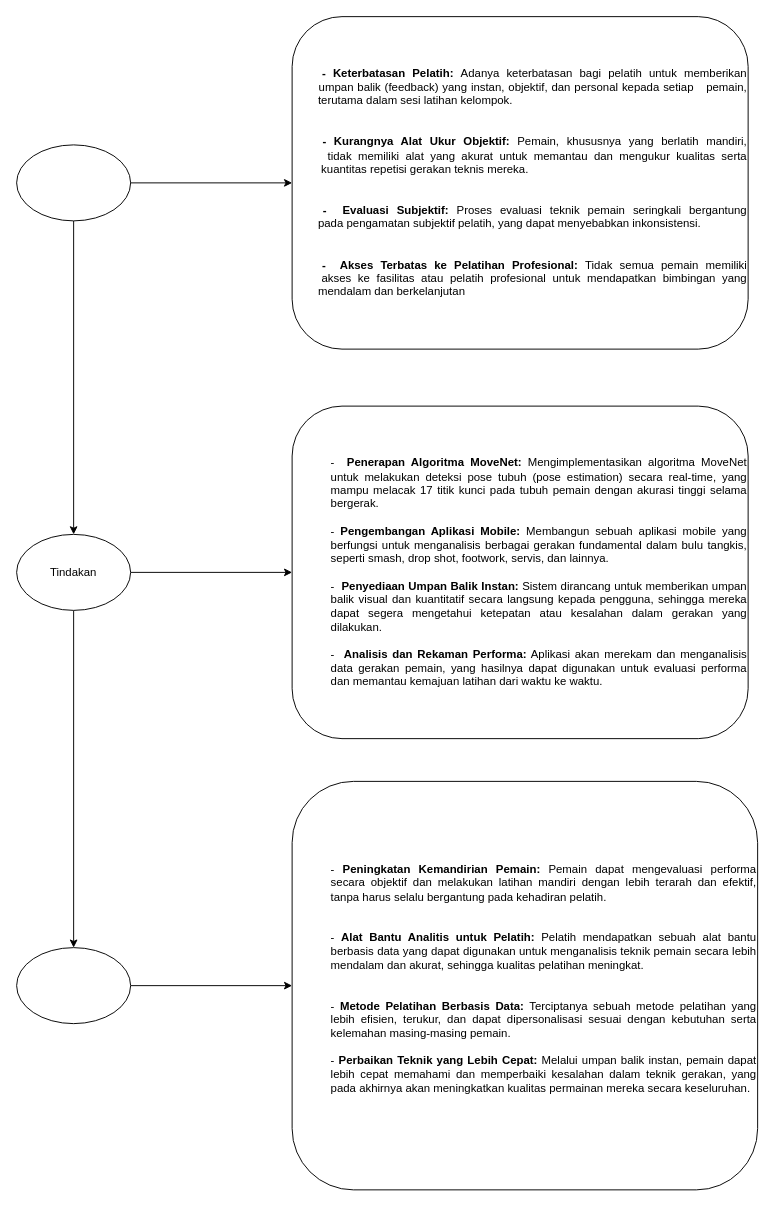
This 774x1207 diagram has some shape labels left out. Here are the shapes that lost their labels. From the top down, the centre of each, then its label:
At point (73, 182): "Kondisi".
At point (73, 985): "Hasil".
